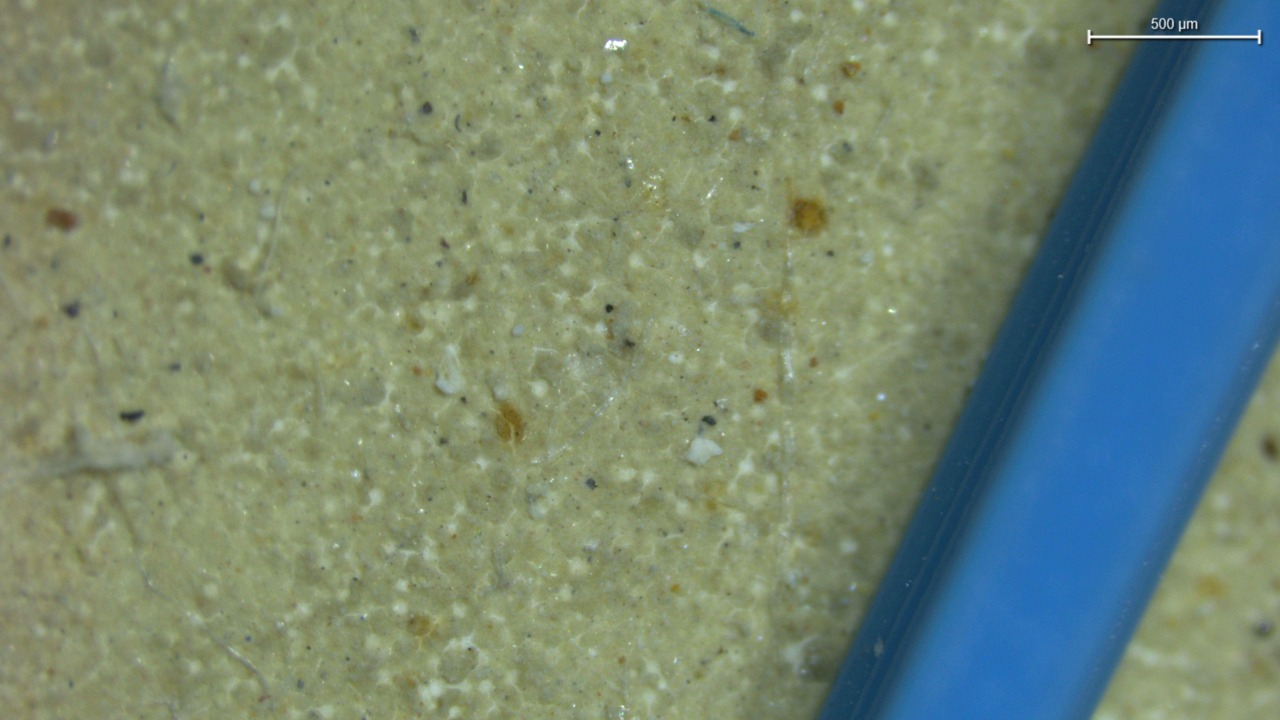microplastic_fragment: (434, 344, 465, 395), (684, 437, 723, 465)
